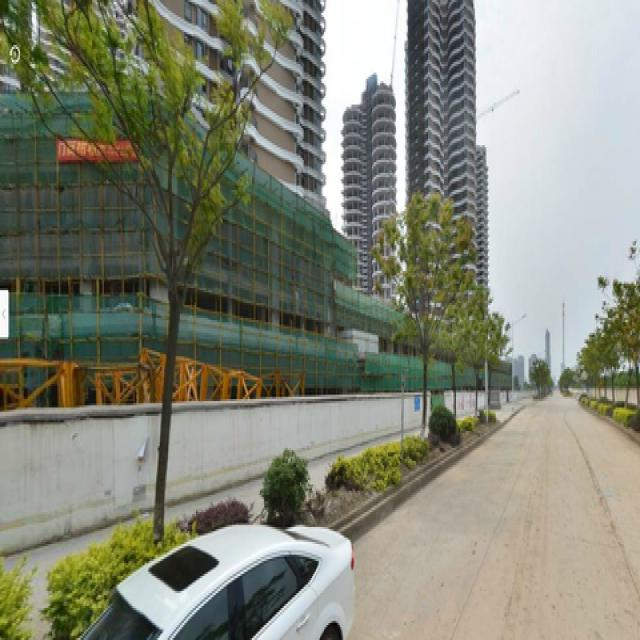koel: (397, 197, 460, 406)
